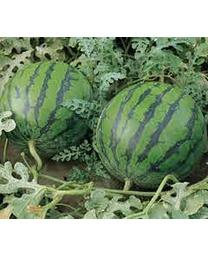watermelon: (94, 80, 206, 187), (1, 61, 92, 160)
